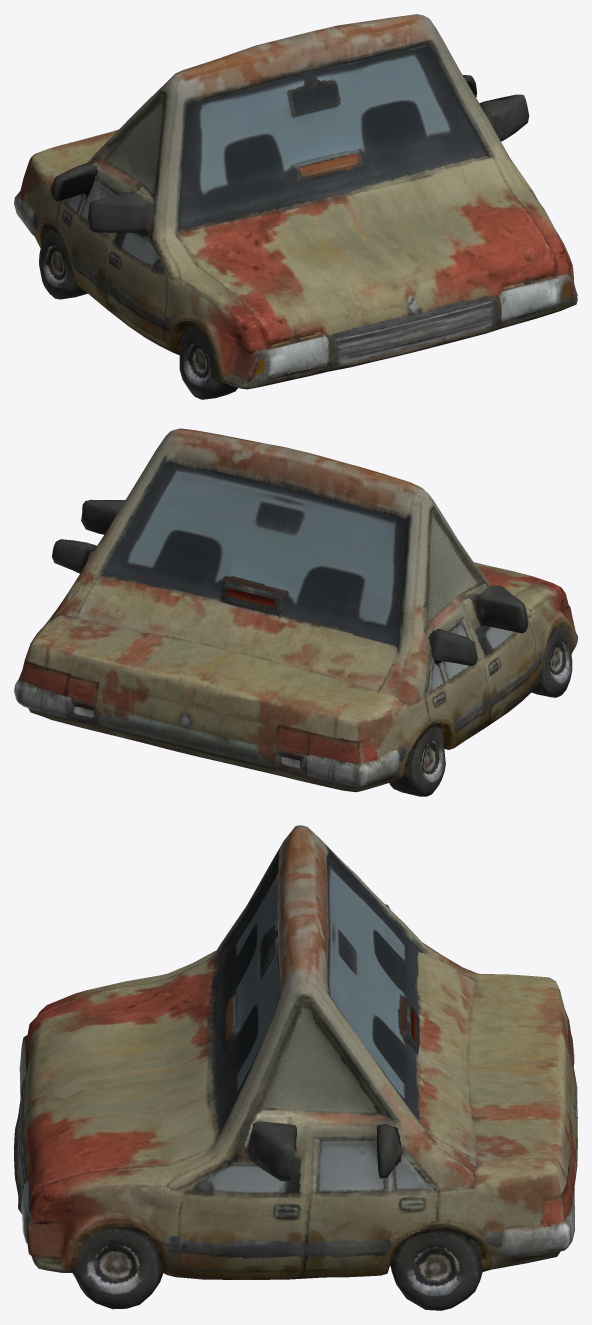
Rendered from wreck_car_threeview_candidate.glb.
The picture shows the model from 3 angles, top to bottom: view 1: azimuth 30°, elevation 25°; view 2: azimuth 150°, elevation 25°; view 3: azimuth 270°, elevation 25°; orthographic projection. The views are drawn at different scales.
Visible parts, largest first — view 1: wreck_car_threeview_candidate; view 2: wreck_car_threeview_candidate; view 3: wreck_car_threeview_candidate.
Part boxes in pixels (x1=…): wreck_car_threeview_candidate: x1=14, y1=14, x2=577, y2=399; wreck_car_threeview_candidate: x1=14, y1=428, x2=577, y2=796; wreck_car_threeview_candidate: x1=14, y1=825, x2=577, y2=1310.
Size of the model in its own units: 2.44 by 1.36 by 2.22.
1 material, 1 textured.
